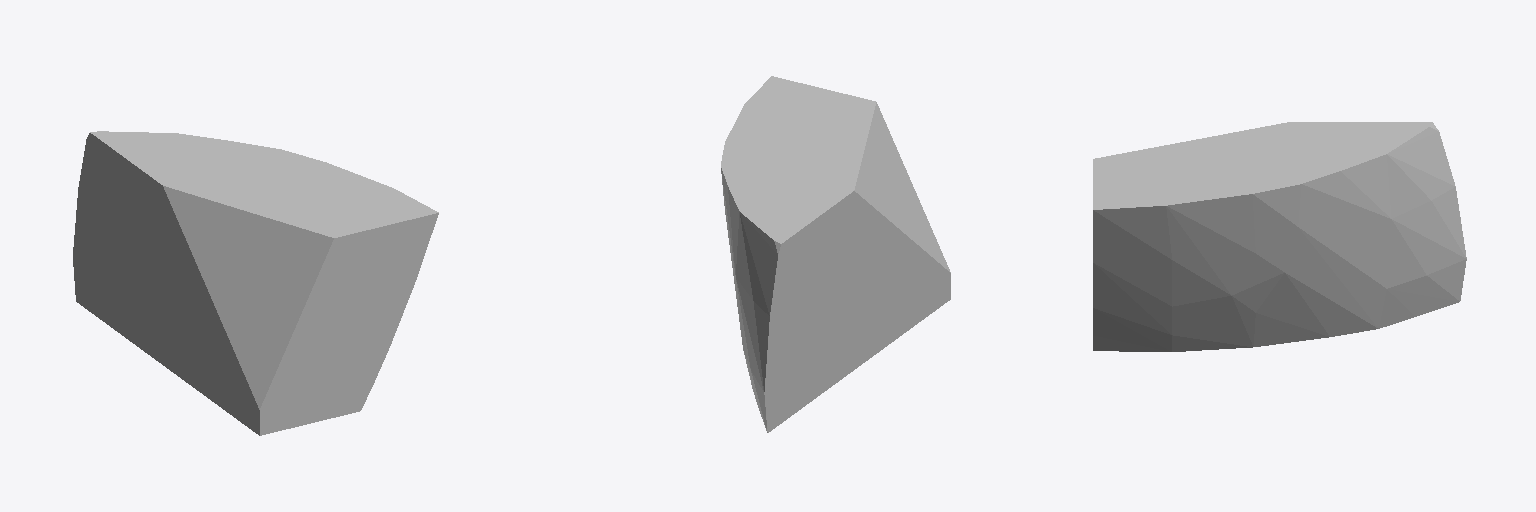
Rendered from phantom-elastrat_collision_466.obj.
3 renders of one model, left to right at view 1: azimuth 30°, elevation 25°; view 2: azimuth 150°, elevation 25°; view 3: azimuth 270°, elevation 25°, orthographic.
Bounding box in the file's own units: 0.003 × 0.0029 × 0.0054.